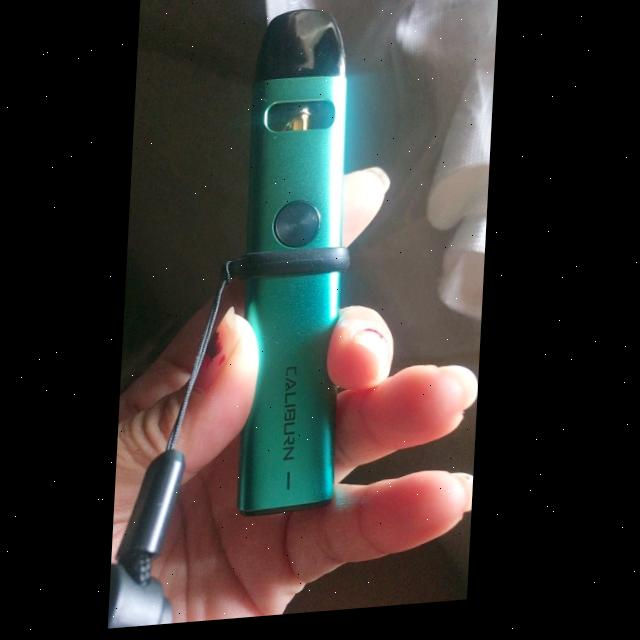vape: (228, 11, 363, 524)
